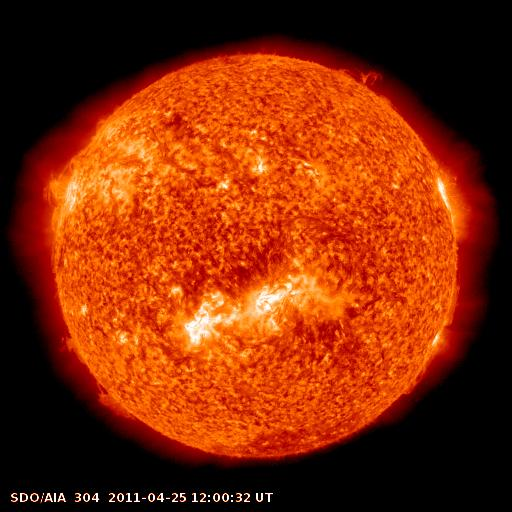prominence: (331, 53, 401, 110), (47, 323, 100, 374), (89, 376, 143, 425), (398, 353, 441, 401), (434, 282, 469, 331)
